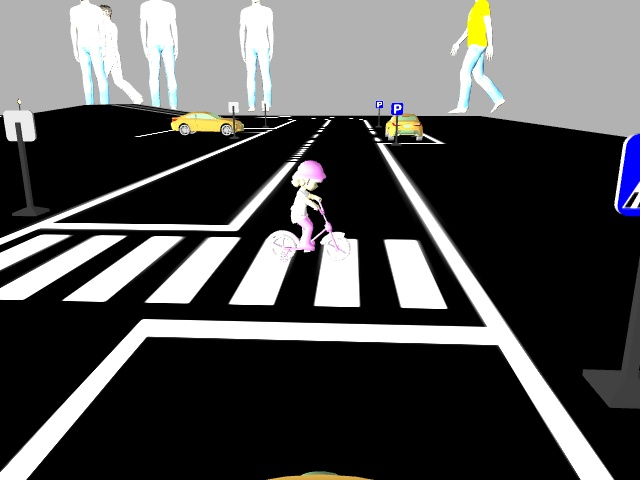Parking: (391, 100, 405, 115)
Pedestrian: (263, 159, 355, 263)
